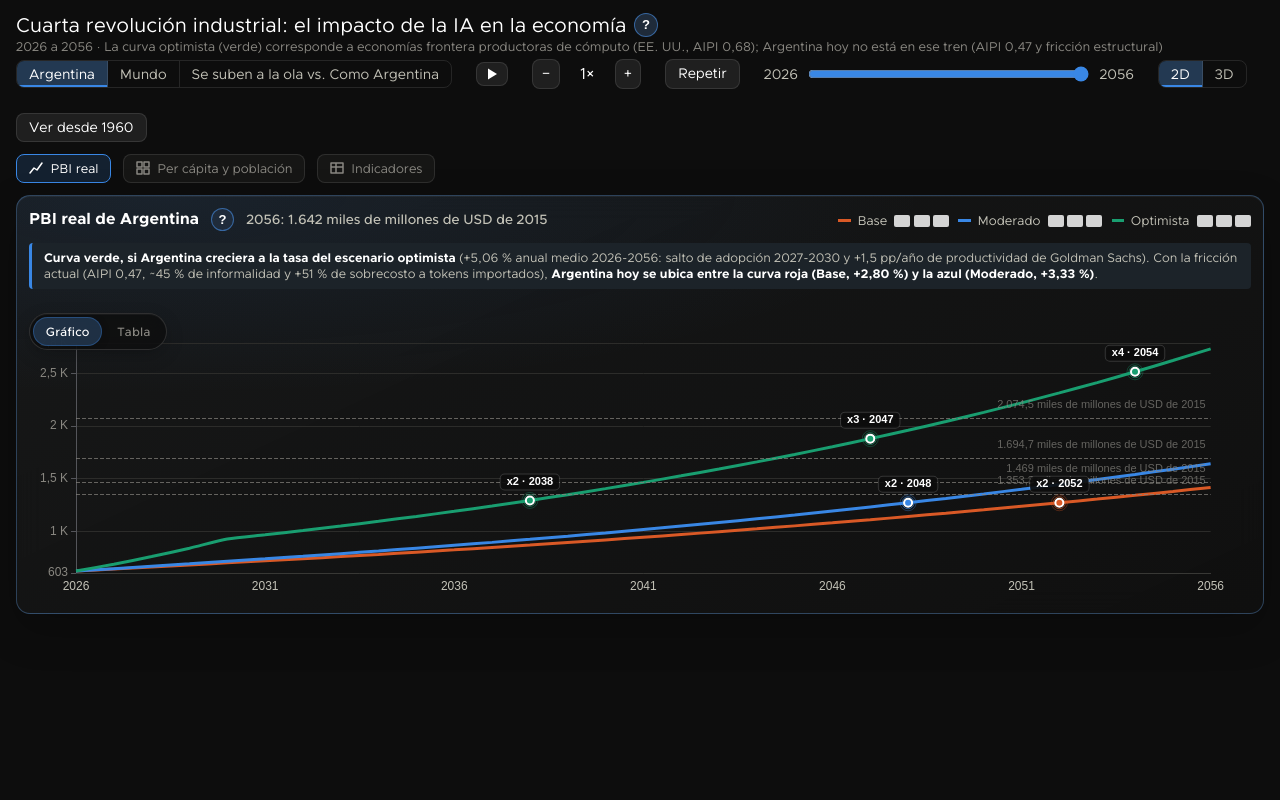
Scenario: AiStep 1960 mode toggle › has a button to toggle between normal mode and 1960 mode
Click the button "Ver desde 1960" at [81, 127], box [16,113,146,142]
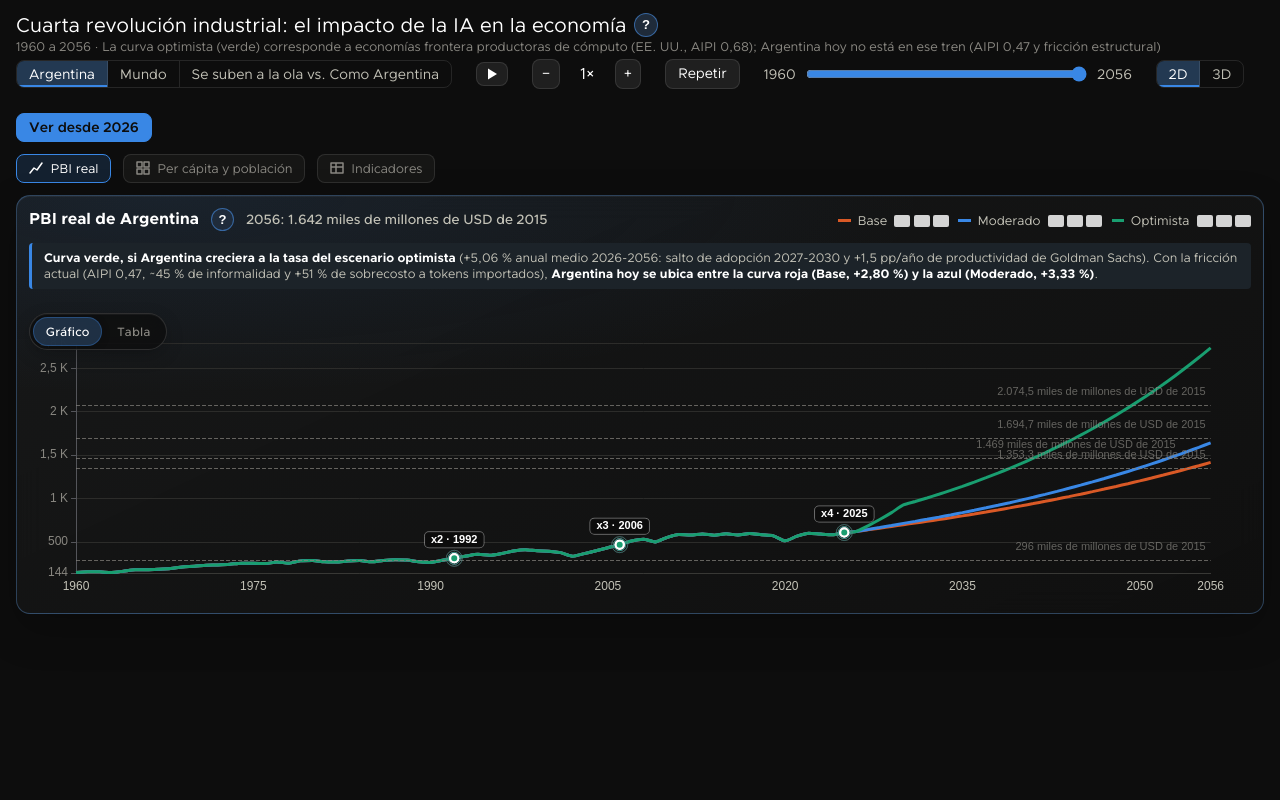
Check: the button "Ver desde 2026" is shown
Click the button "Ver desde 2026" at [84, 127], box [16,113,152,142]
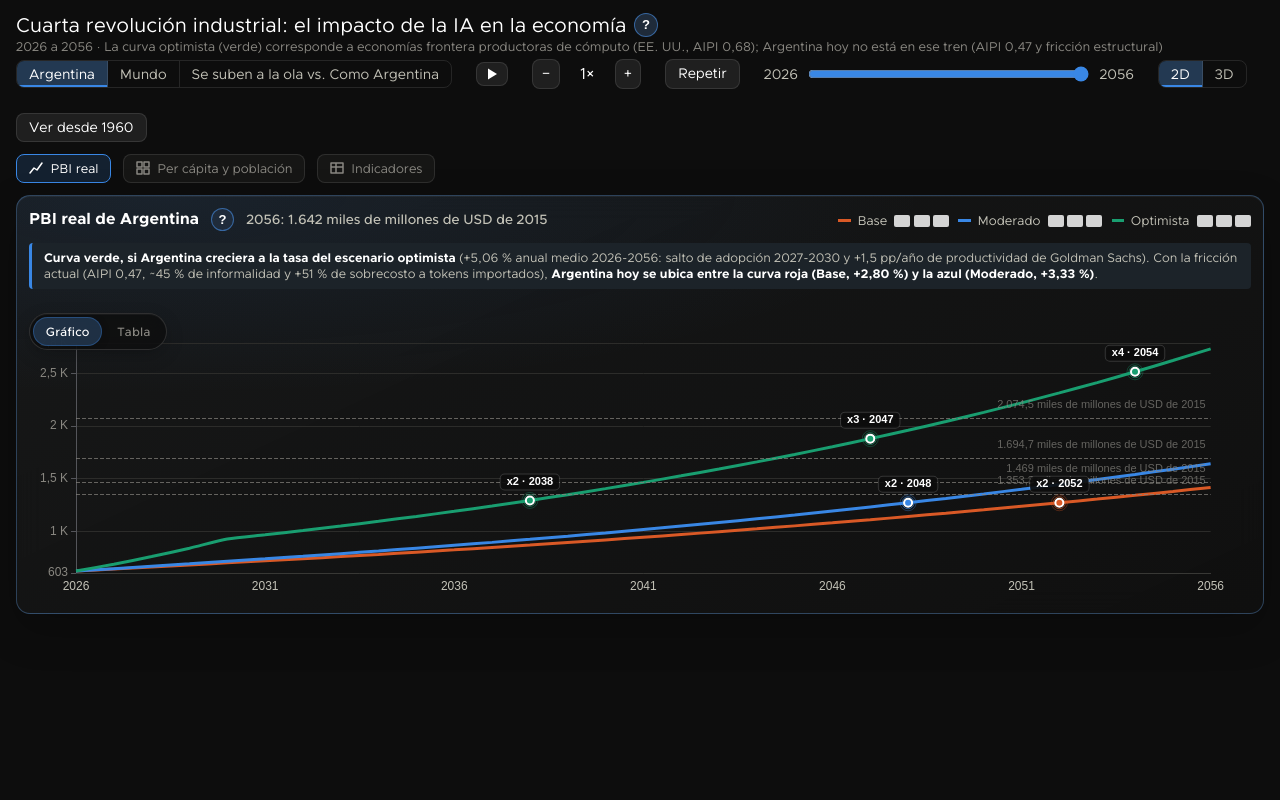
Check: the button "Ver desde 1960" is shown, box [16,113,146,142]
